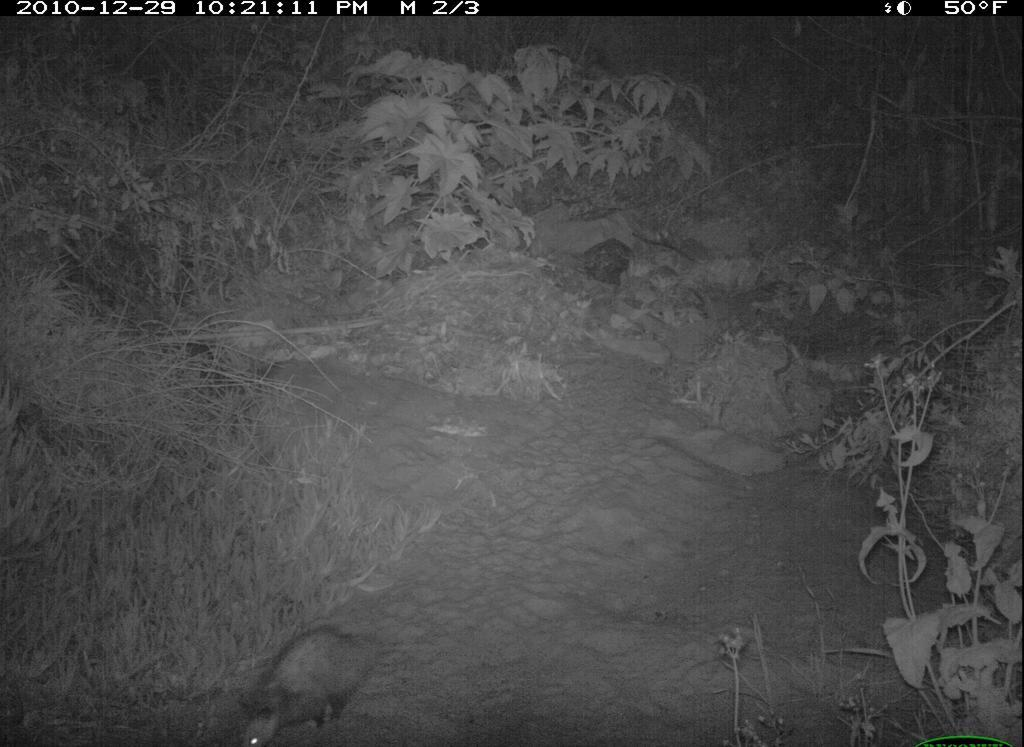opossum: (226, 619, 405, 743)
